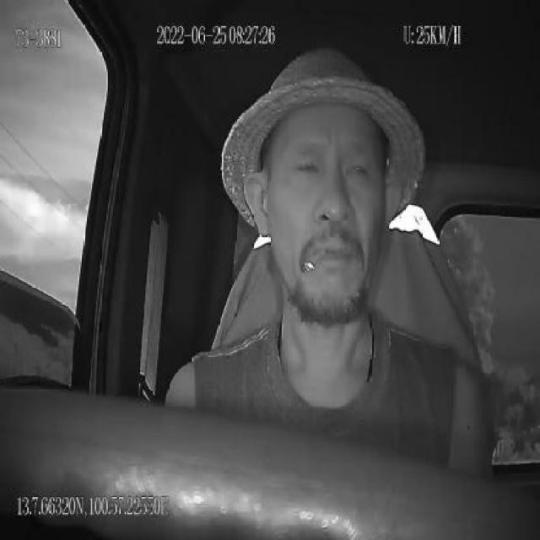smoking: (297, 243, 318, 278)
